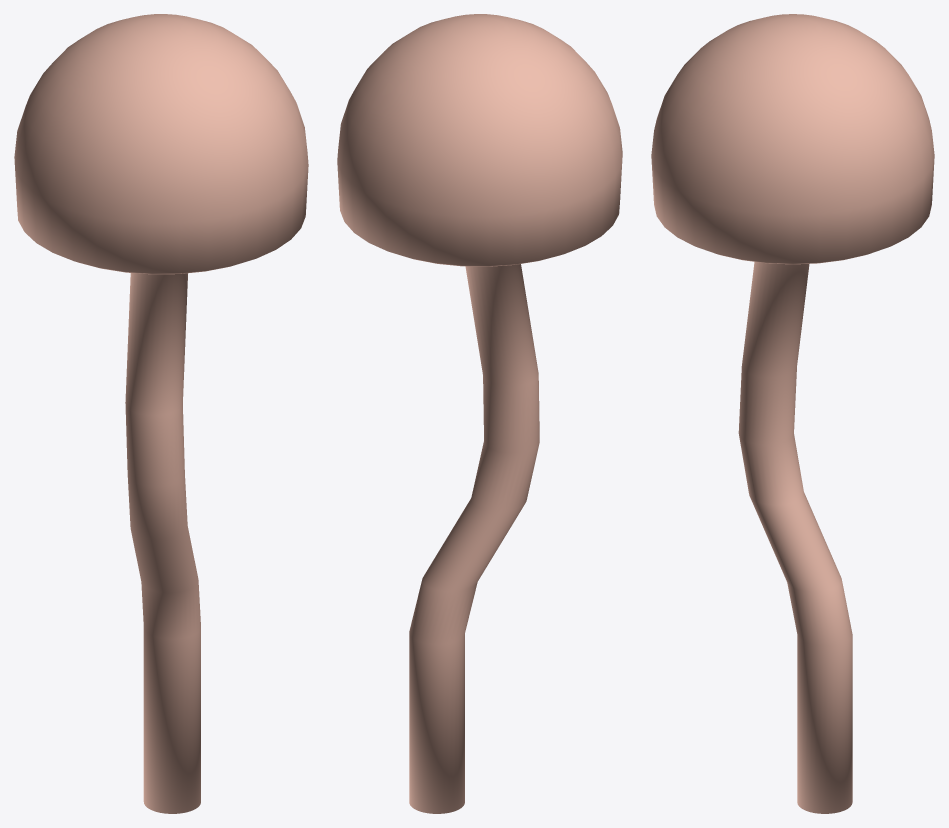
File: Mushroom.fbx
3 renders of one model, left to right at view 1: azimuth 30°, elevation 25°; view 2: azimuth 150°, elevation 25°; view 3: azimuth 270°, elevation 25°, orthographic. The views are drawn at different scales.
Parts seen in each view (by area): view 1: Sphere; view 2: Sphere; view 3: Sphere.
Part boxes in pixels (x1,y1,x2,y2): Sphere: [14, 14, 308, 813]; Sphere: [337, 14, 622, 813]; Sphere: [651, 14, 934, 813].
Size of the model in its own units: 200 by 594 by 200.
